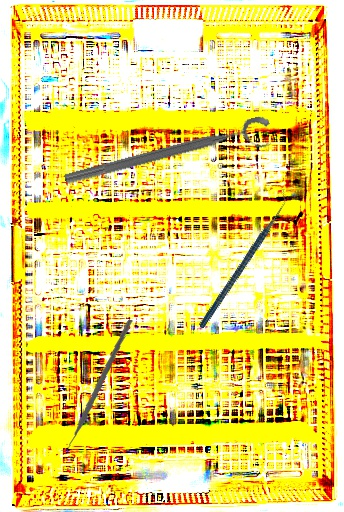Chopper: (164, 188, 322, 329), (41, 320, 146, 452)
Fixation Ring: (62, 114, 276, 201)
